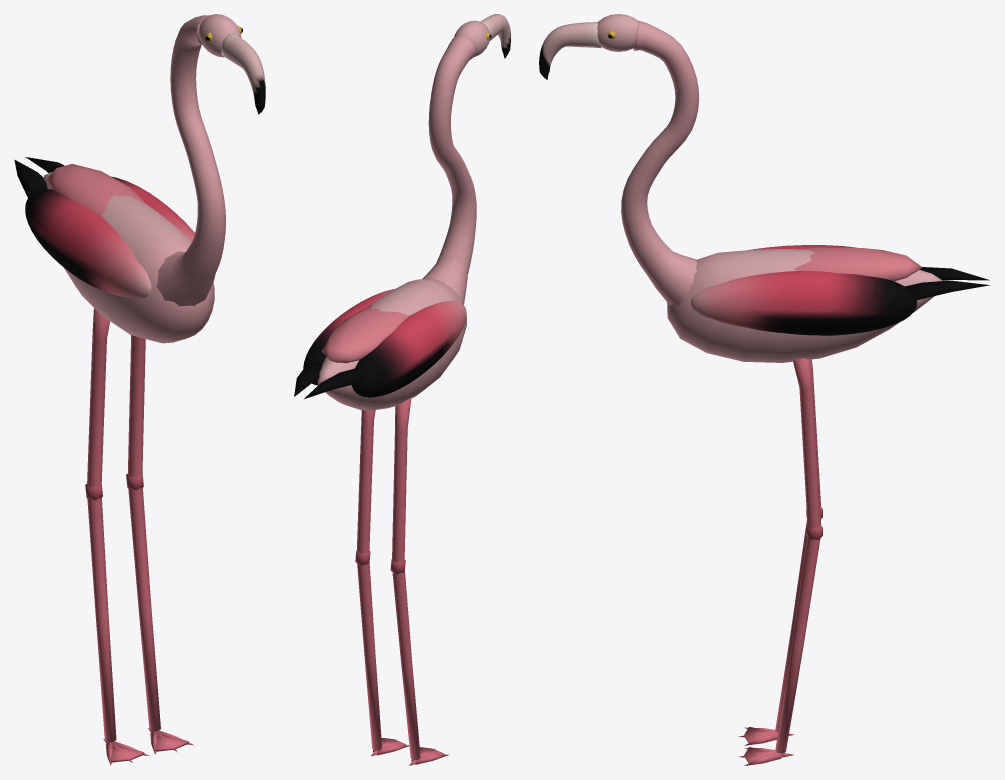
The model's file is GreaterFlamingo.fbx.
3 renders of one model, left to right at view 1: azimuth 30°, elevation 25°; view 2: azimuth 150°, elevation 25°; view 3: azimuth 270°, elevation 25°, orthographic. The views are drawn at different scales.
Visible parts, largest first — view 1: GreaterFlamingo; view 2: GreaterFlamingo; view 3: GreaterFlamingo.
Boxes of the visible parts, <box> form: GreaterFlamingo: <box>14,14,265,765</box>; GreaterFlamingo: <box>294,14,510,765</box>; GreaterFlamingo: <box>539,14,989,765</box>.
Bounding box in the file's own units: 0.204 × 1.42 × 0.7949.
